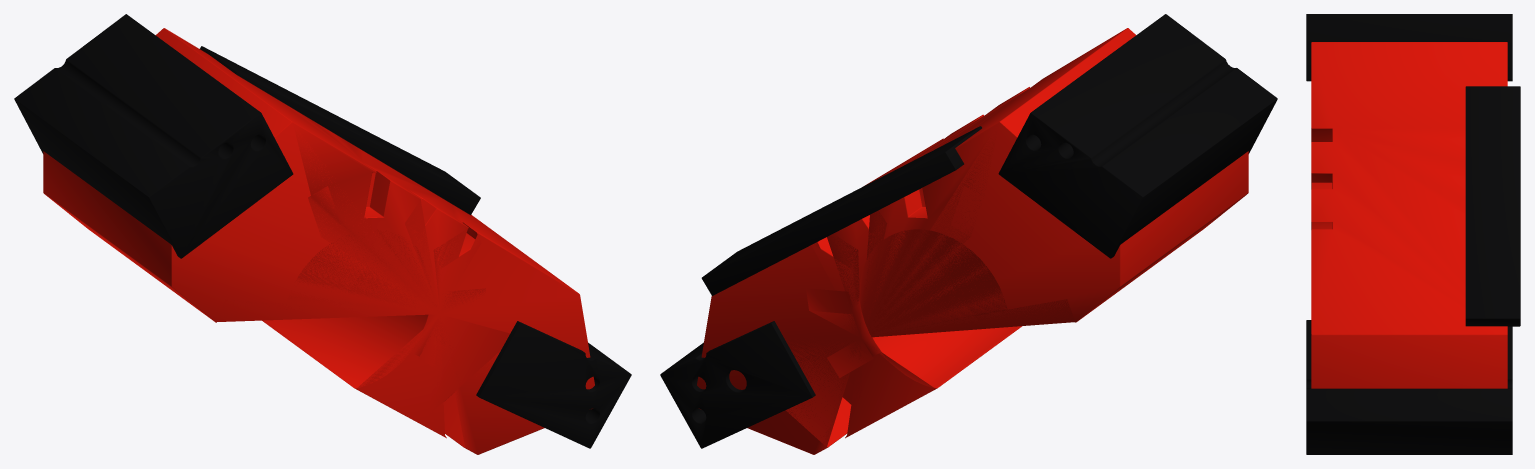
The model's file is Wedge_Visual.obj.
The picture shows the model from 3 angles, left to right: view 1: azimuth 30°, elevation 25°; view 2: azimuth 150°, elevation 25°; view 3: azimuth 270°, elevation 25°; orthographic projection. The views are drawn at different scales.
Parts seen in each view (by area): view 1: Wedge_Visual_Export; view 2: Wedge_Visual_Export; view 3: Wedge_Visual_Export.
Boxes of the visible parts, x1,y1,x2,y2 form: Wedge_Visual_Export: (14,14,631,454); Wedge_Visual_Export: (660,14,1277,454); Wedge_Visual_Export: (1306,14,1520,454).
Bounding box in the file's own units: 0.104 × 0.0857 × 0.0523.
